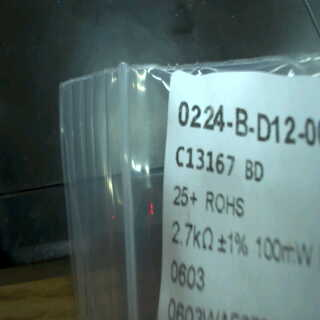2.7kR: (163, 216, 218, 256)
